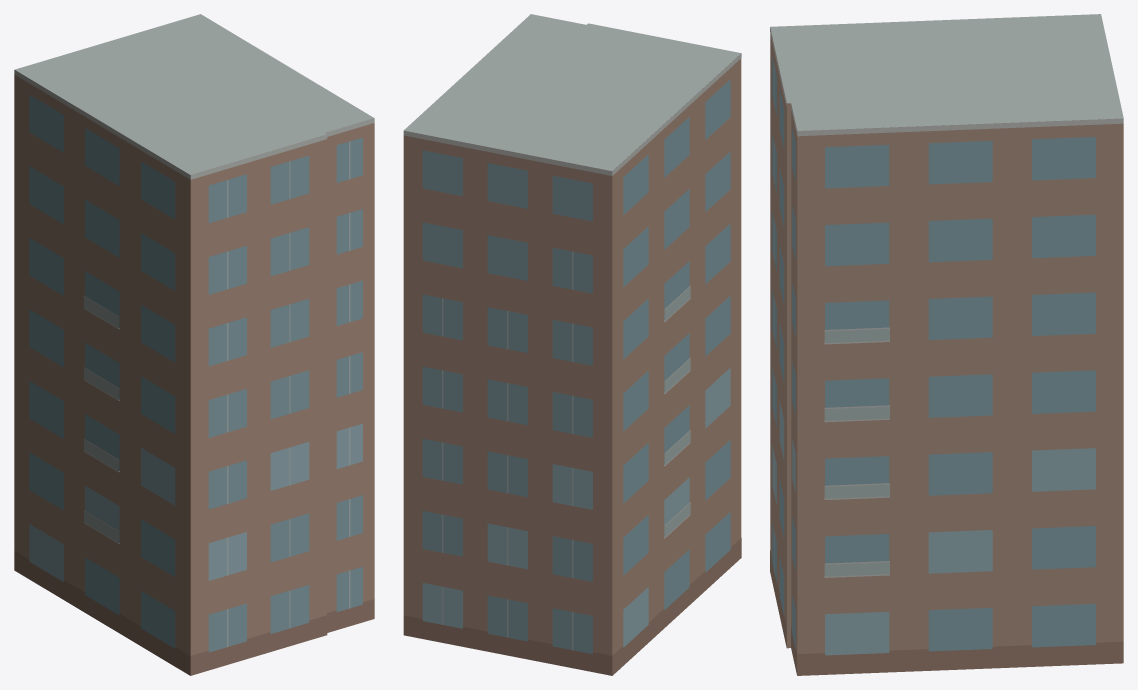
Rendered from survey-upis-32957487.glb.
The picture shows the model from 3 angles, left to right: view 1: azimuth 30°, elevation 25°; view 2: azimuth 150°, elevation 25°; view 3: azimuth 270°, elevation 25°; orthographic projection. The views are drawn at different scales.
Parts seen in each view (by area): view 1: survey-upis-32957487.tmp; view 2: survey-upis-32957487.tmp; view 3: survey-upis-32957487.tmp.
Boxes of the visible parts, x1=… form: survey-upis-32957487.tmp: x1=14, y1=14, x2=374, y2=675; survey-upis-32957487.tmp: x1=403, y1=14, x2=741, y2=675; survey-upis-32957487.tmp: x1=770, y1=14, x2=1123, y2=675.
Size of the model in its own units: 11.76 by 25.5 by 15.01.
